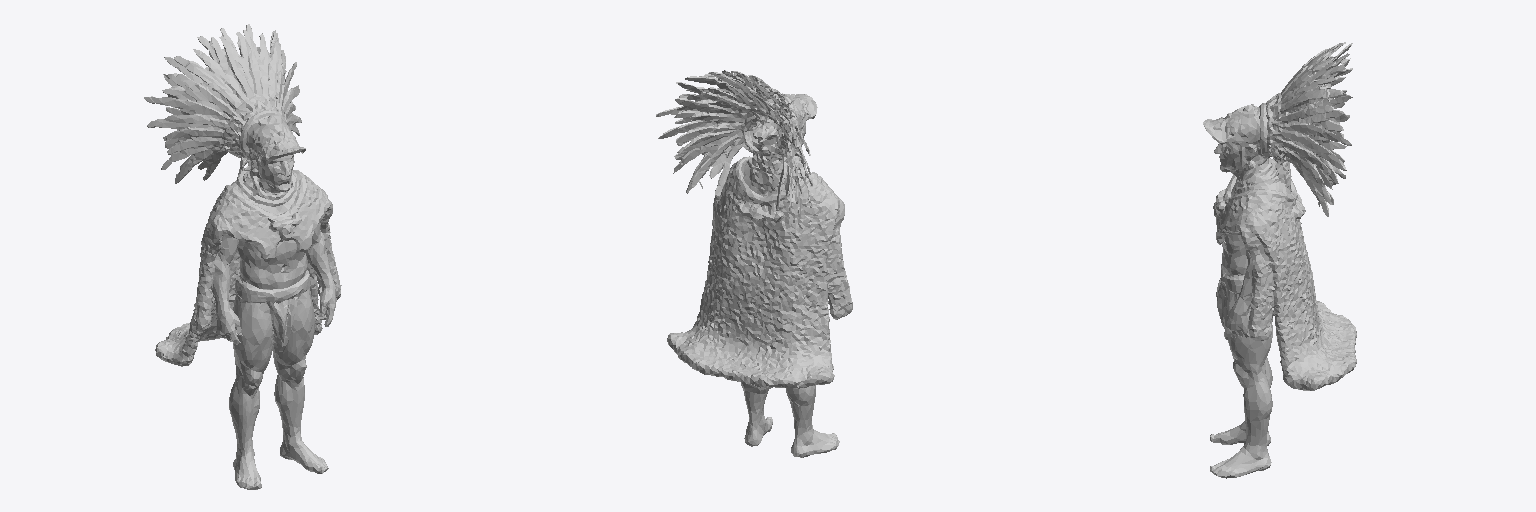
Rendered from Mayan_Warrior_Statue_1125053710_texture.obj.
The picture shows the model from 3 angles: view 1: azimuth 30°, elevation 25°; view 2: azimuth 150°, elevation 25°; view 3: azimuth 270°, elevation 25°; orthographic projection.
Parts seen in each view (by area): view 1: Mayan_Warrior_Statue_[number redacted]_texture; view 2: Mayan_Warrior_Statue_[number redacted]_texture; view 3: Mayan_Warrior_Statue_[number redacted]_texture.
Part boxes in pixels (left/top/right/bottom): Mayan_Warrior_Statue_[number redacted]_texture: left=144, top=24, right=341, bottom=489; Mayan_Warrior_Statue_[number redacted]_texture: left=656, top=70, right=852, bottom=457; Mayan_Warrior_Statue_[number redacted]_texture: left=1203, top=42, right=1356, bottom=478.
Size of the model in its own units: 0.7655 by 1.8 by 0.6201.